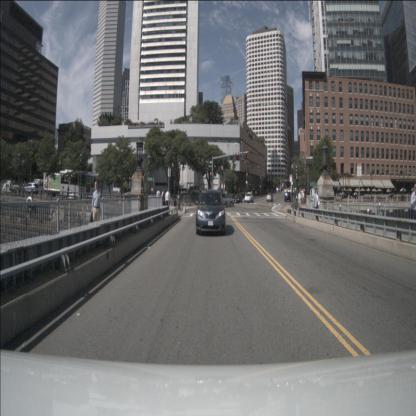human-pedestrian-adult: (89, 180, 101, 244), (410, 180, 416, 242), (312, 189, 320, 223), (165, 188, 171, 215), (155, 188, 161, 209), (298, 190, 302, 211), (162, 190, 166, 210), (162, 188, 165, 210), (66, 185, 70, 200), (302, 192, 305, 204)
vehicle-bus-rigid: (59, 170, 103, 200)
vehicle-car: (194, 190, 228, 236), (212, 192, 235, 208), (23, 182, 39, 196), (2, 182, 20, 194), (244, 192, 254, 204), (233, 194, 243, 204), (284, 191, 292, 202), (266, 193, 274, 202)
vehicle-truck: (43, 172, 76, 198)
